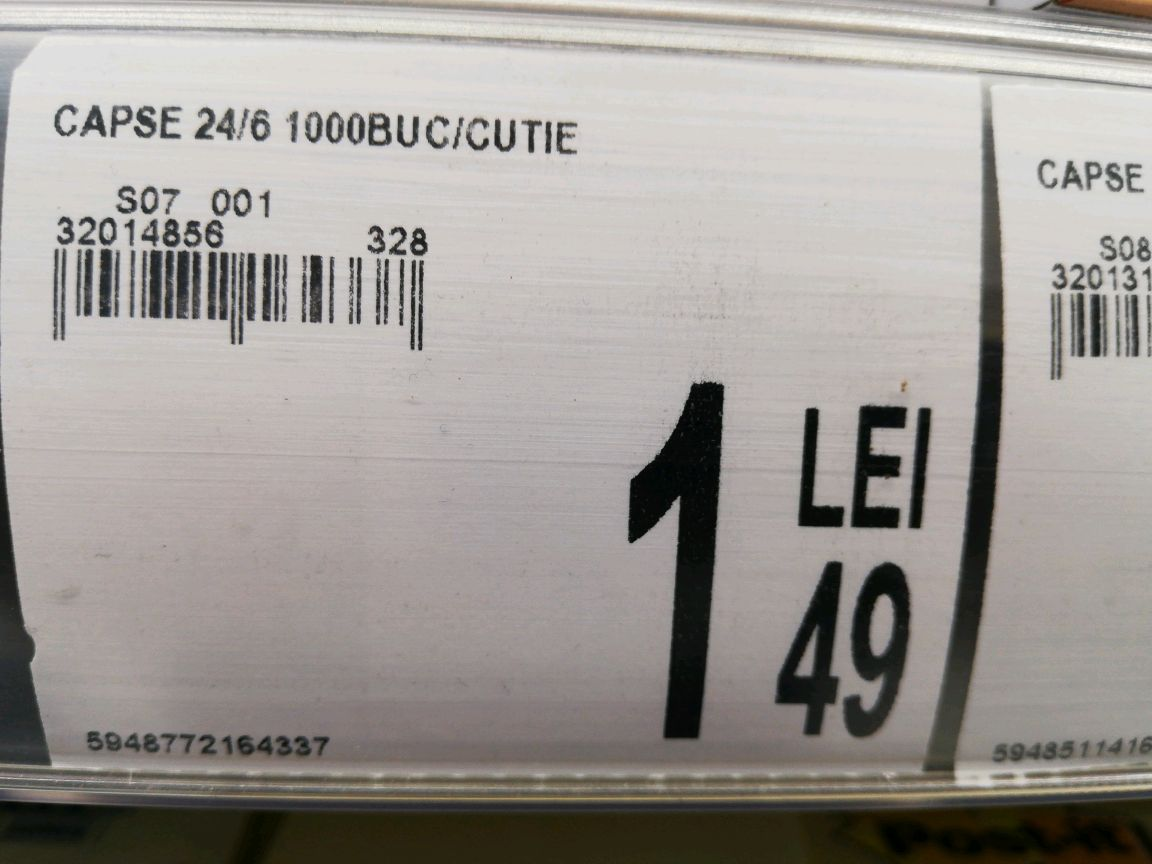price_bani: (763, 545, 918, 749)
price_lei: (603, 366, 750, 752)
price_tag: (6, 23, 982, 802)
product_id: (75, 724, 345, 769)
product_name: (39, 92, 595, 162)
